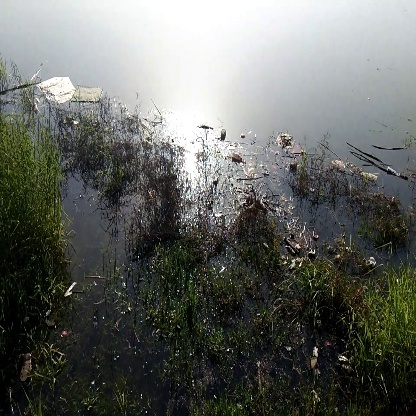plastic-bag: (31, 71, 82, 111)
